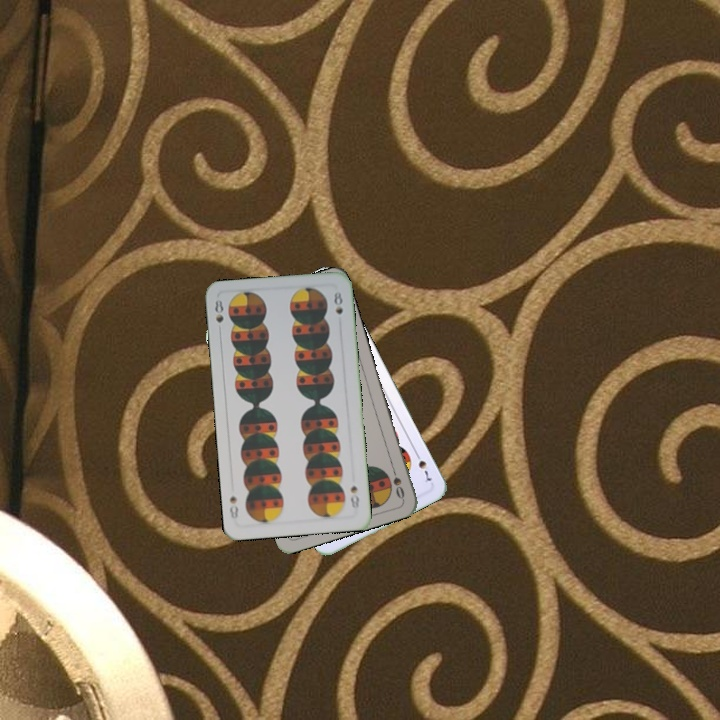S7: (411, 447, 434, 484)
S8: (346, 481, 362, 511), (211, 296, 226, 325)
SO: (387, 462, 407, 502)
